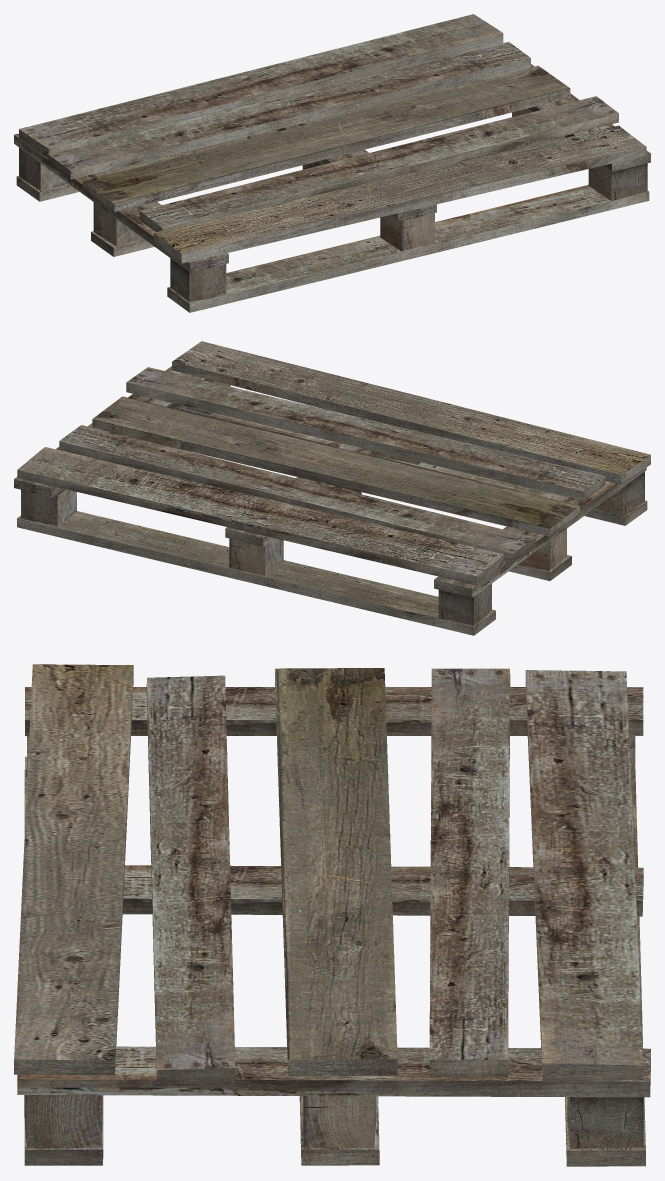
Rendered from pallet.FBX.
The picture shows the model from 3 angles, top to bottom: view 1: azimuth 30°, elevation 25°; view 2: azimuth 150°, elevation 25°; view 3: azimuth 270°, elevation 25°; orthographic projection. The views are drawn at different scales.
Visible parts, largest first — view 1: pallet_s; view 2: pallet_s; view 3: pallet_s.
Boxes of the visible parts, x1,y1,x2,y2 form: pallet_s: (14,14,650,312); pallet_s: (14,341,650,635); pallet_s: (14,664,650,1166).
Size of the model in its own units: 1.24 by 0.1488 by 0.8244.
